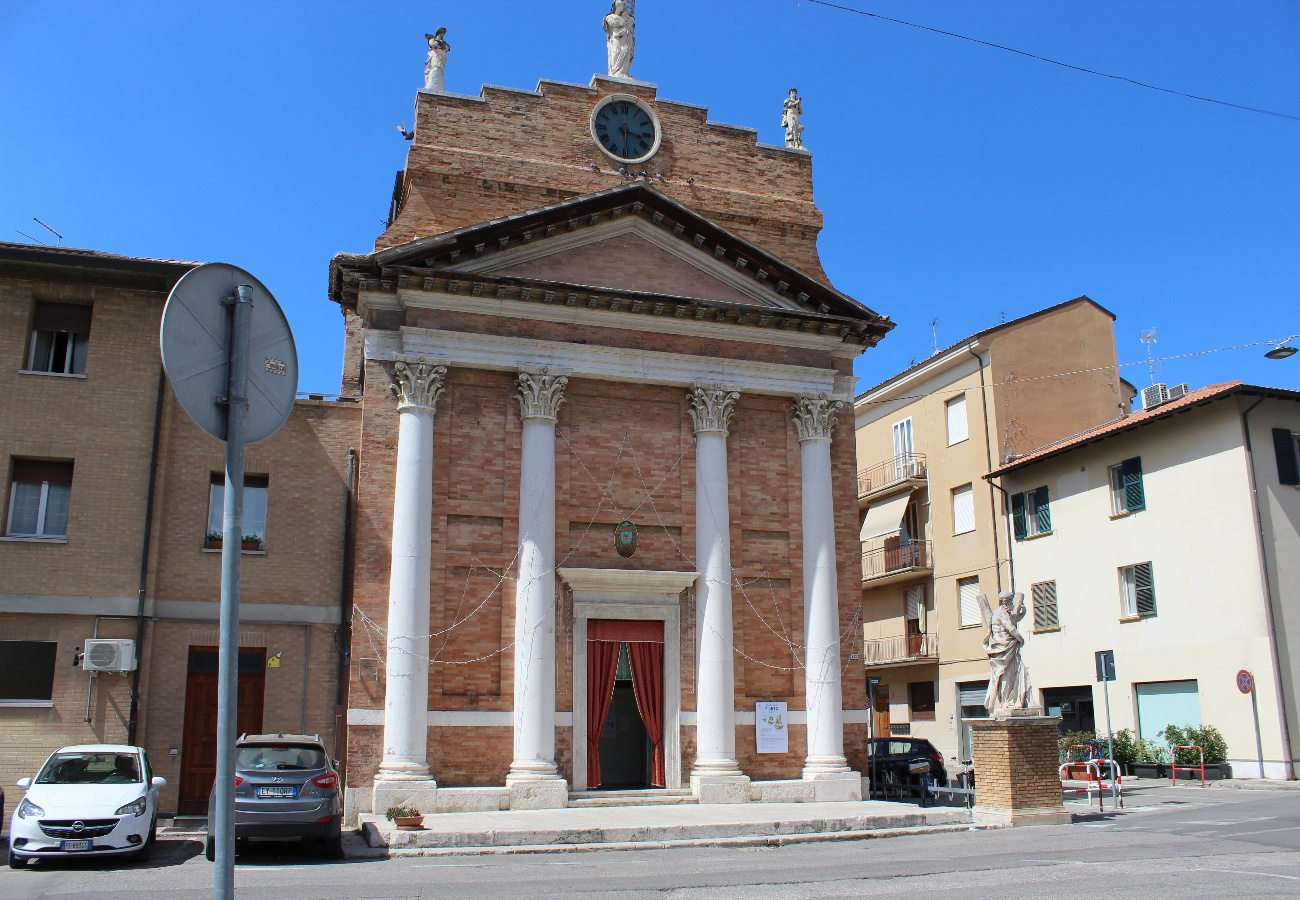Parrocchia Santa Maria: (328, 21, 903, 831)
